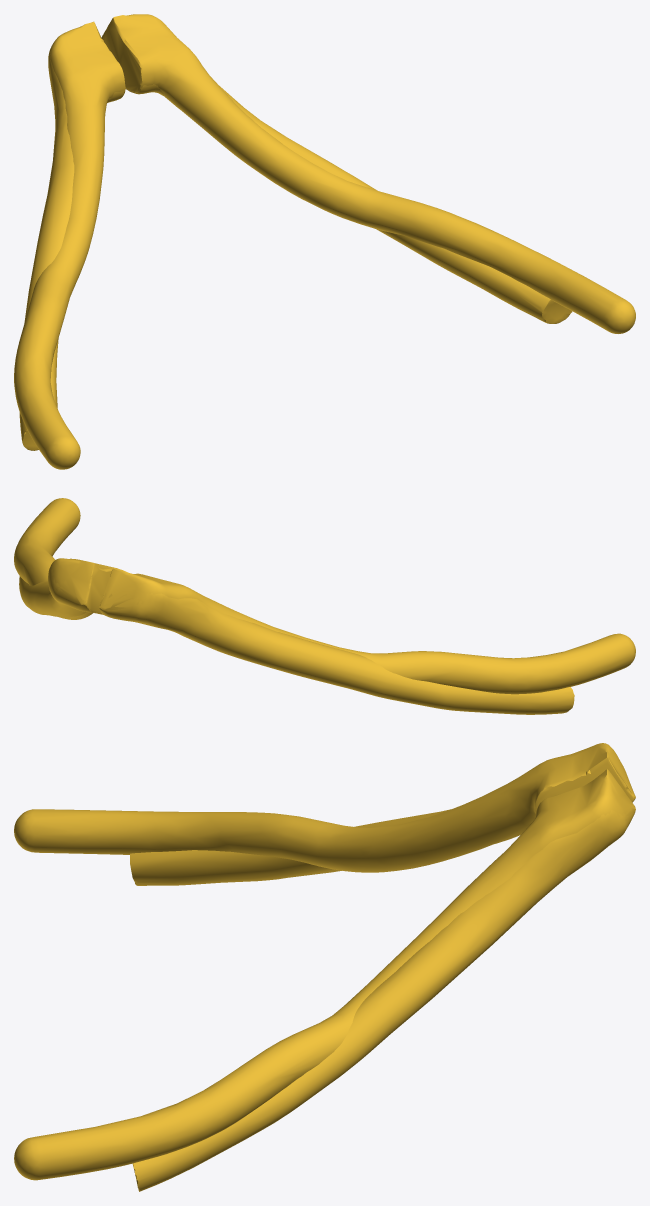
The model's file is optic.glb.
3 views of the same model, one above another, from view 1: azimuth 30°, elevation 25°; view 2: azimuth 150°, elevation 25°; view 3: azimuth 270°, elevation 25° (orthographic). The views are drawn at different scales.
Visible parts, largest first — view 1: grp1; view 2: grp1; view 3: grp1.
Part boxes in pixels (bbox=[...]): grp1: bbox=[14, 14, 635, 469]; grp1: bbox=[14, 498, 635, 714]; grp1: bbox=[14, 743, 635, 1191].
Bounding box in the file's own units: 0.0653 × 0.024 × 0.0496.
